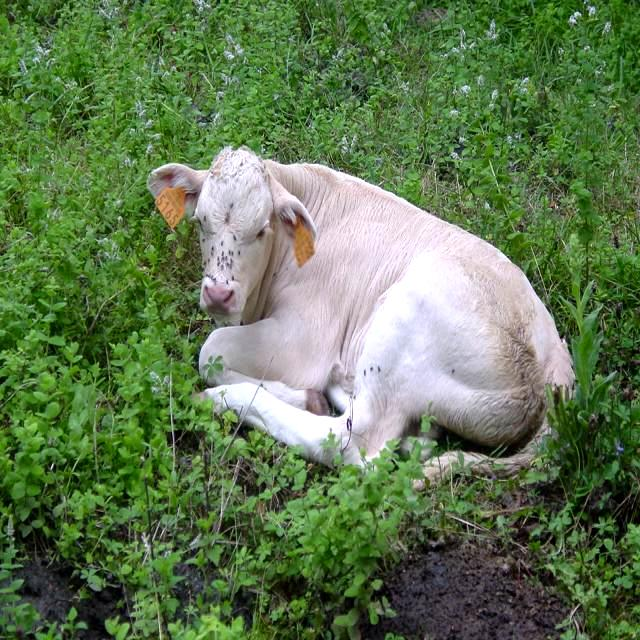COW: (148, 148, 574, 481)
